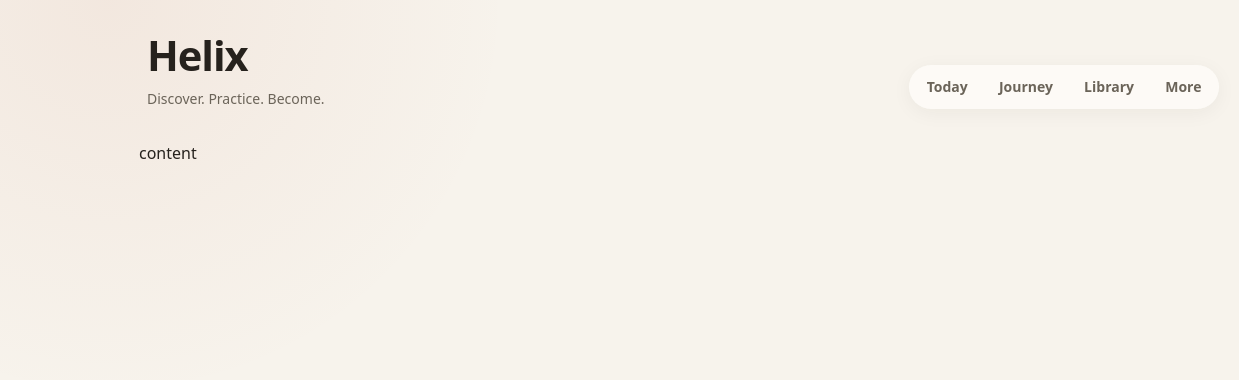
Test case: AppLayout › shows a reduced primary navigation and a skip link
Expected: the link "Today" is shown, [927,77,968,96]
Expected: the link "Journey" is shown, [999,77,1053,96]
// Secondary destinations are tucked behind "More" rather than competing for primary attention.
Click the heading "More": {"x": 1183, "y": 86} [1165,77,1201,96]
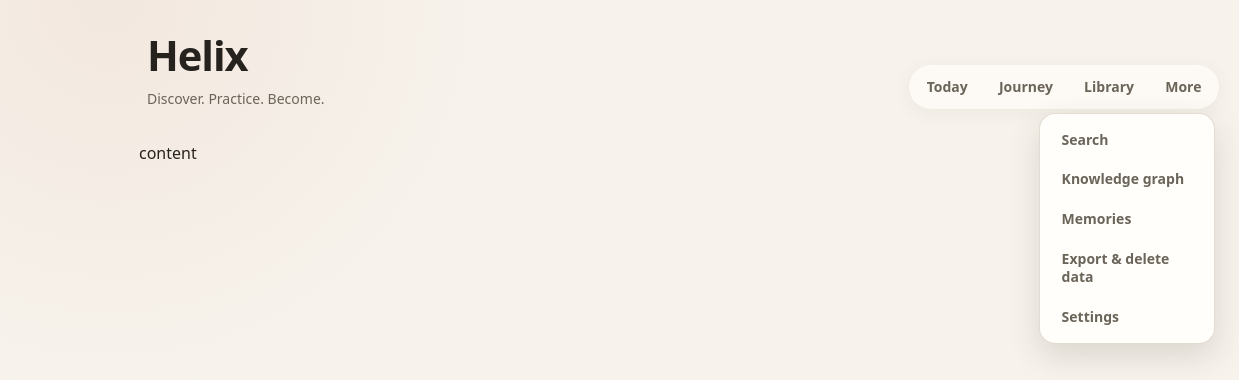
Now the link "Settings" is shown, box [1062,307,1119,326]
